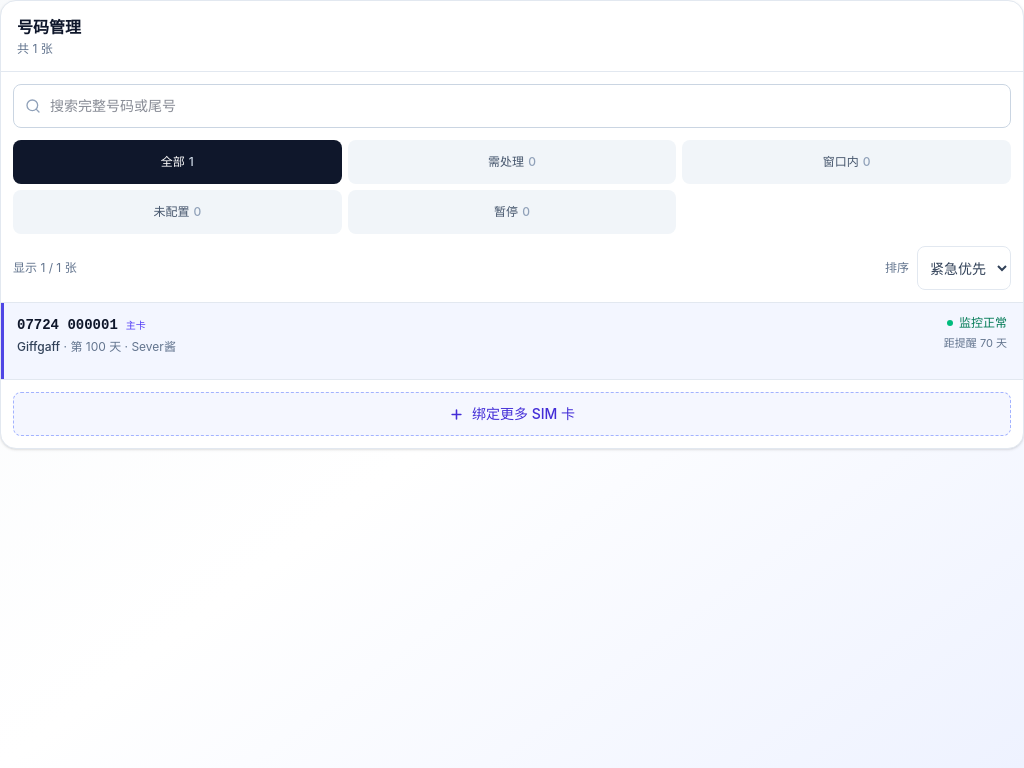
<SimManager /> › 无结果时可以一次清除搜索和筛选
This screenshot has width=1024, height=768.
Step 1. Type "不存在" into the search field named "搜索 SIM 卡" → (512, 106), box left=13, top=84, right=1011, bottom=128
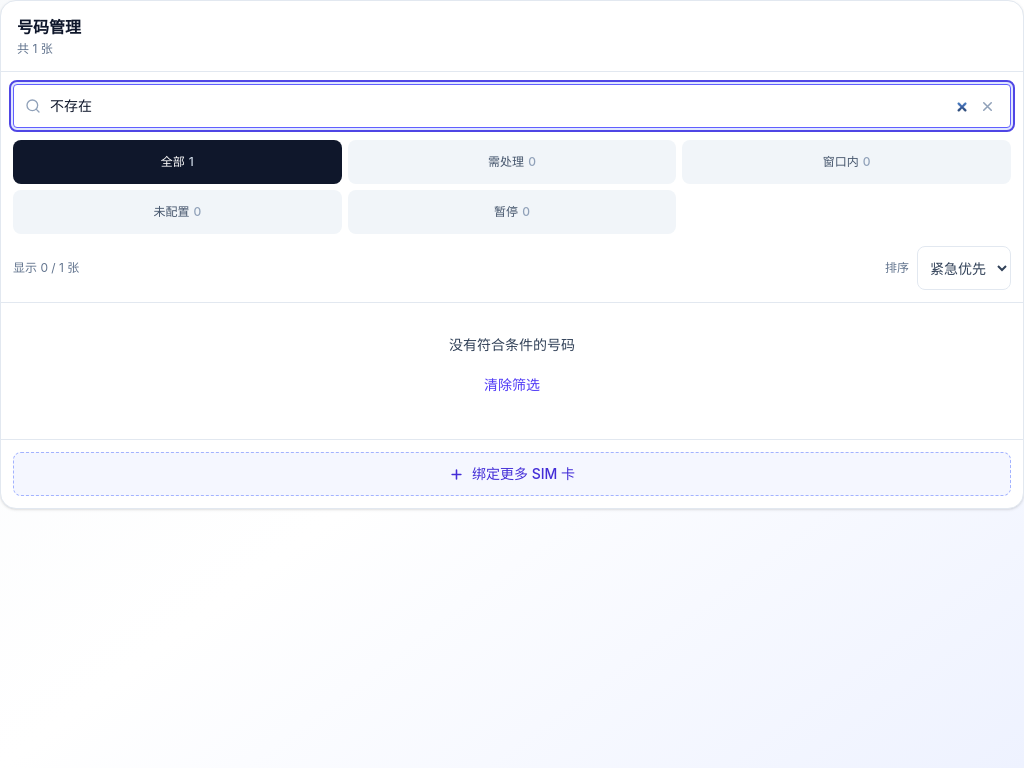
expect the text "没有符合条件的号码" is shown: met, box left=449, top=336, right=575, bottom=353
Step 2. Click the button "清除筛选" → (512, 385), box left=472, top=363, right=552, bottom=407
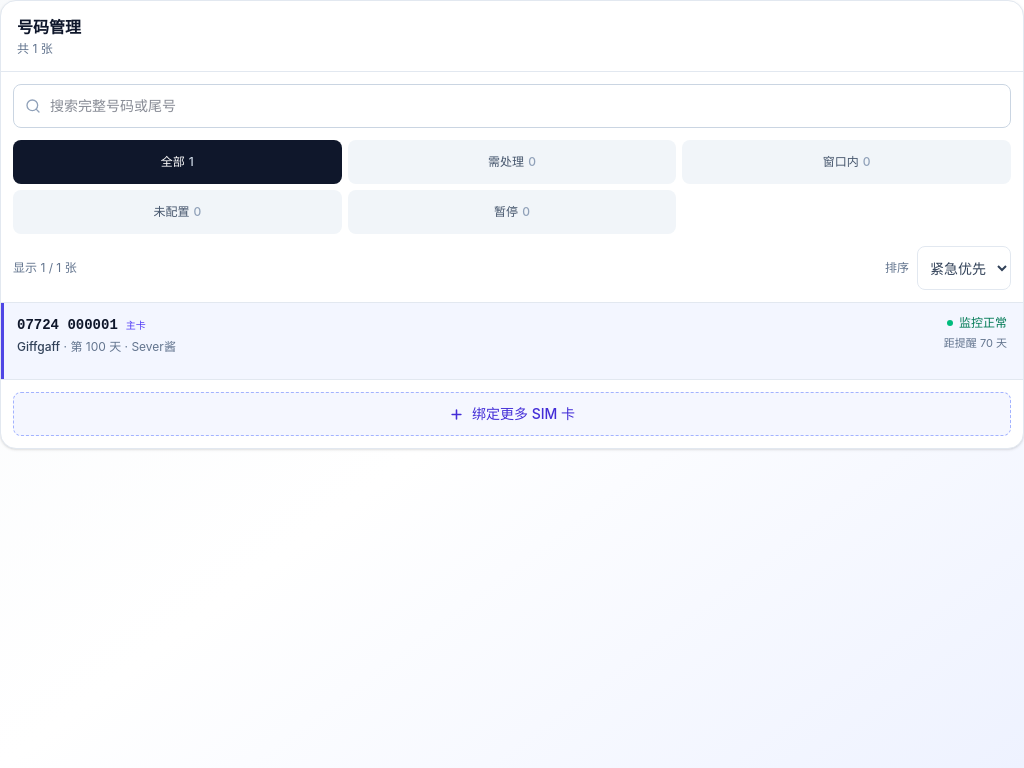
expect the text "显示 1 / 1 张" is shown: met, box left=13, top=260, right=77, bottom=276
